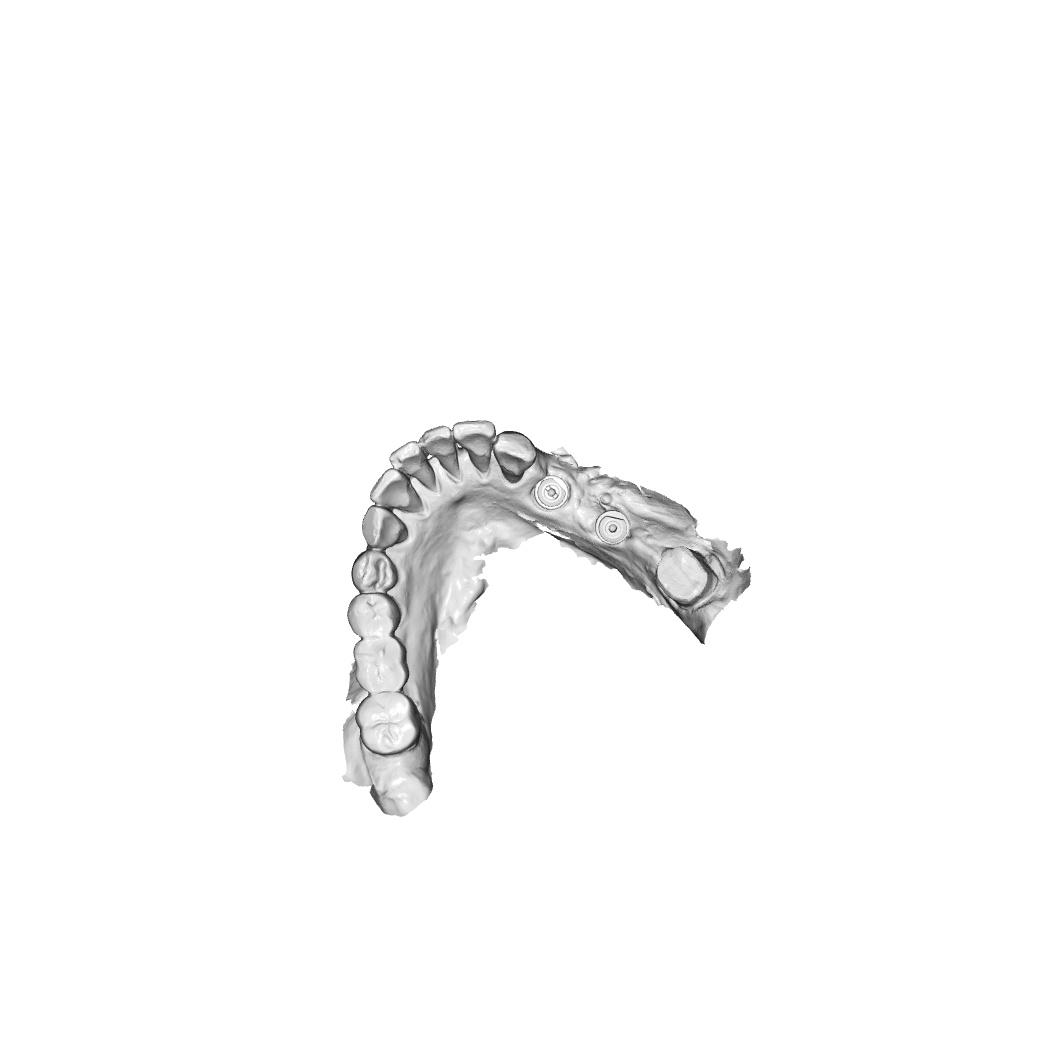canine: (493, 429, 538, 484), (361, 505, 409, 550)
crown: (655, 544, 722, 611)
implant: (594, 510, 631, 546)
implant_minus: (533, 474, 573, 511)
incisor: (388, 440, 438, 492), (369, 467, 424, 513), (452, 419, 497, 474), (417, 426, 456, 459)
molar: (354, 691, 422, 757), (353, 637, 410, 695)
premolar: (346, 592, 402, 637), (350, 549, 399, 594)
